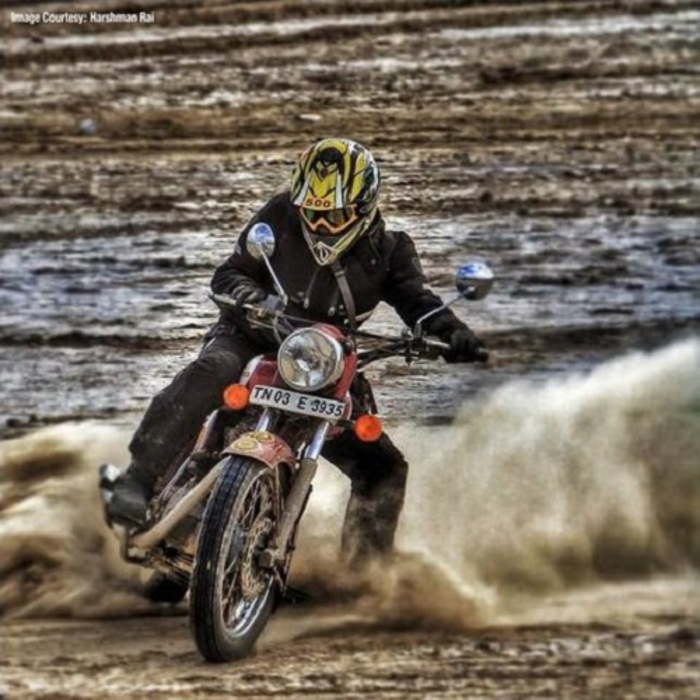h: (291, 137, 380, 268)
n: (247, 382, 348, 424)
